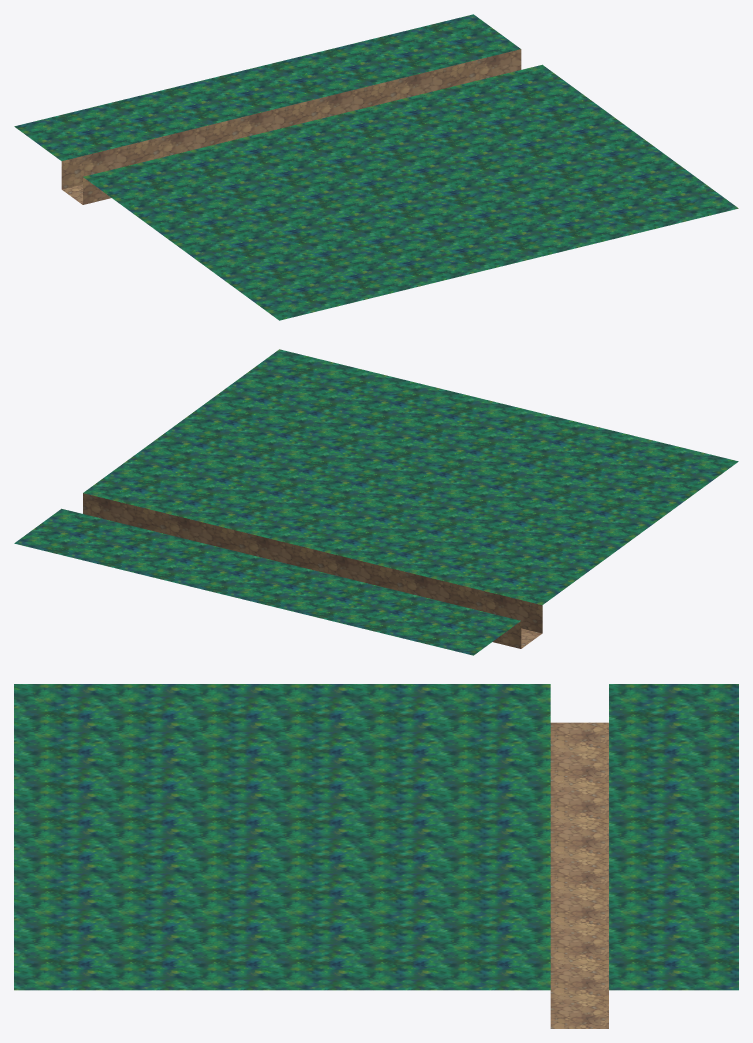
File: Terrain.fbx
3 views of the same model, one above another, from view 1: azimuth 30°, elevation 25°; view 2: azimuth 150°, elevation 25°; view 3: azimuth 270°, elevation 25° (orthographic). The views are drawn at different scales.
Visible parts, largest first — view 1: Plane.008; view 2: Plane.008; view 3: Plane.008.
Part boxes in pixels (box(x1,y1,x2,y2)): Plane.008: box(14, 14, 738, 320); Plane.008: box(14, 349, 738, 655); Plane.008: box(14, 684, 738, 1028).
Bounding box in the file's own units: 10000 × 587 × 10000.
2 materials, 2 textured.
